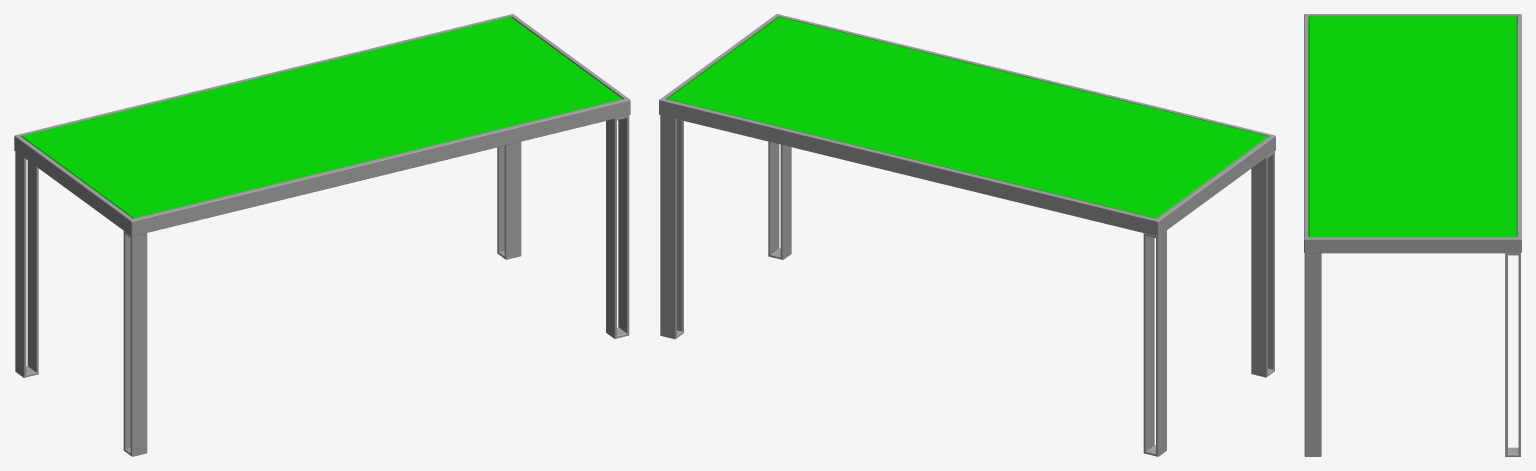
The model's file is Table.fbx.
3 views of the same model, side by side, from view 1: azimuth 30°, elevation 25°; view 2: azimuth 150°, elevation 25°; view 3: azimuth 270°, elevation 25° (orthographic). The views are drawn at different scales.
Parts seen in each view (by area): view 1: simple_table:Box091; view 2: simple_table:Box091; view 3: simple_table:Box091.
Boxes of the visible parts, left/top/right/bottom form: simple_table:Box091: left=14, top=14, right=630, bottom=456; simple_table:Box091: left=659, top=14, right=1275, bottom=456; simple_table:Box091: left=1304, top=14, right=1521, bottom=456.
Size of the model in its own units: 203 by 91.61 by 82.83.
